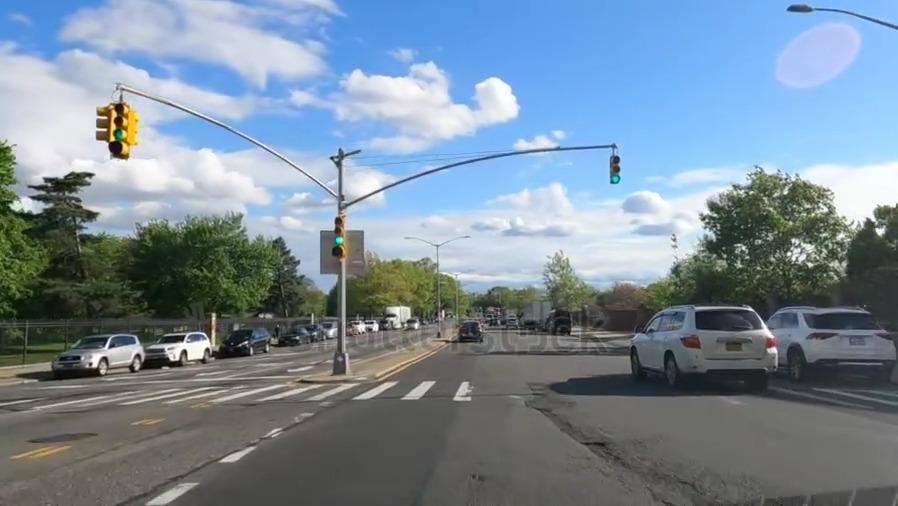car: (625, 298, 774, 390), (760, 296, 897, 387), (61, 333, 141, 375), (145, 331, 219, 371), (222, 329, 271, 362), (460, 319, 485, 341), (284, 327, 311, 345), (308, 322, 324, 339)
pedestrian: (0, 380, 897, 408)
person: (274, 323, 282, 335)
pothole: (579, 436, 612, 453)
road damage: (638, 452, 729, 506), (521, 387, 575, 422)
traffic light: (89, 89, 148, 172), (325, 208, 353, 267), (603, 147, 625, 184)
